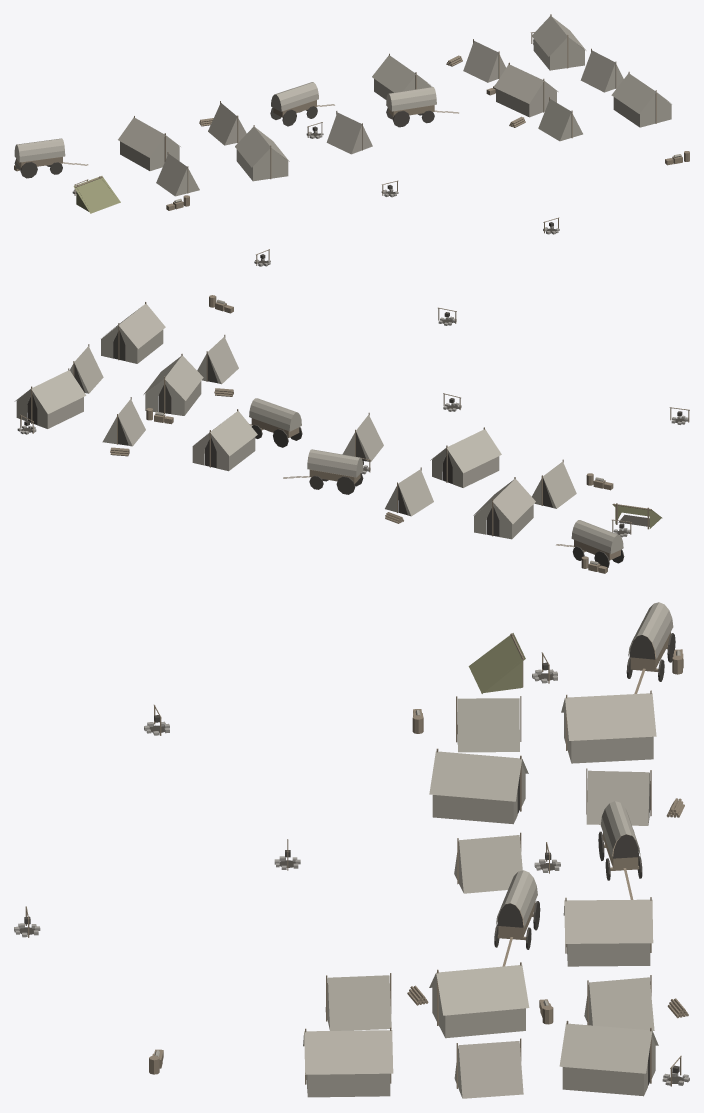
The model's file is land_sale_camp_shore__camp_1835.glb.
3 renders of one model, top to bottom at view 1: azimuth 30°, elevation 25°; view 2: azimuth 150°, elevation 25°; view 3: azimuth 270°, elevation 25°, orthographic. The views are drawn at different scales.
Parts seen in each view (by area): view 1: land_sale_camp_shore__camp_1835; view 2: land_sale_camp_shore__camp_1835; view 3: land_sale_camp_shore__camp_1835.
Boxes of the visible parts, <box> form: land_sale_camp_shore__camp_1835: <box>14,14,689,266</box>; land_sale_camp_shore__camp_1835: <box>14,295,689,573</box>; land_sale_camp_shore__camp_1835: <box>14,602,689,1098</box>.
Size of the model in its own units: 46.78 by 2.71 by 29.91.
